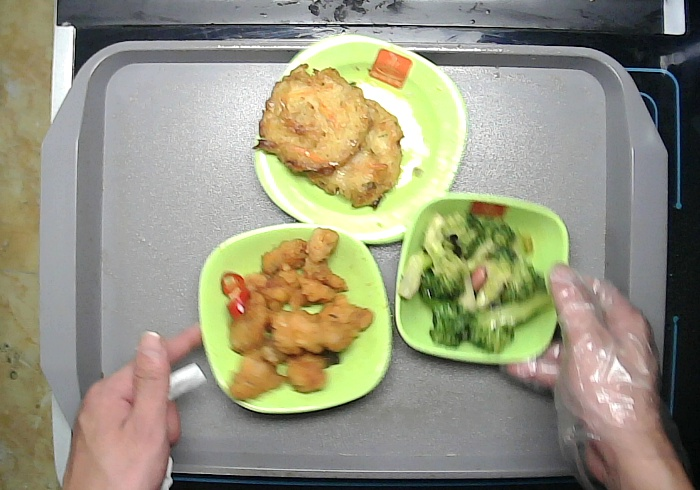SHKJ-Lv_Se_Cai_Die: (196, 222, 393, 416)
SHKJ-Lv_Se_Si_Fang_Cai_Die: (250, 35, 467, 247)
SHKJ-Lv_Se_Xiao_Fang_Die: (396, 193, 569, 366)
